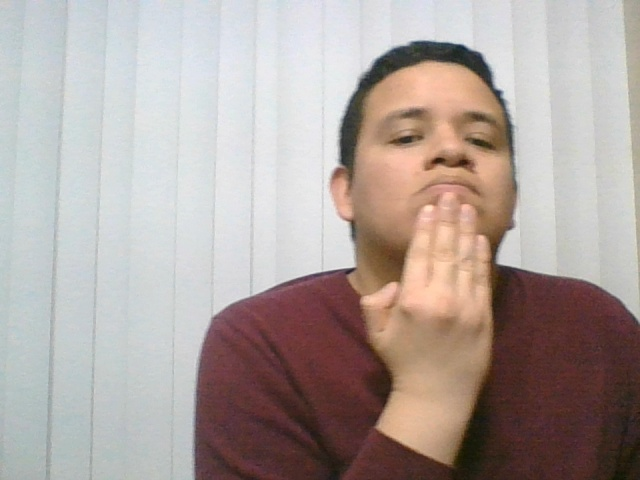Thank you: (321, 182, 559, 430)
